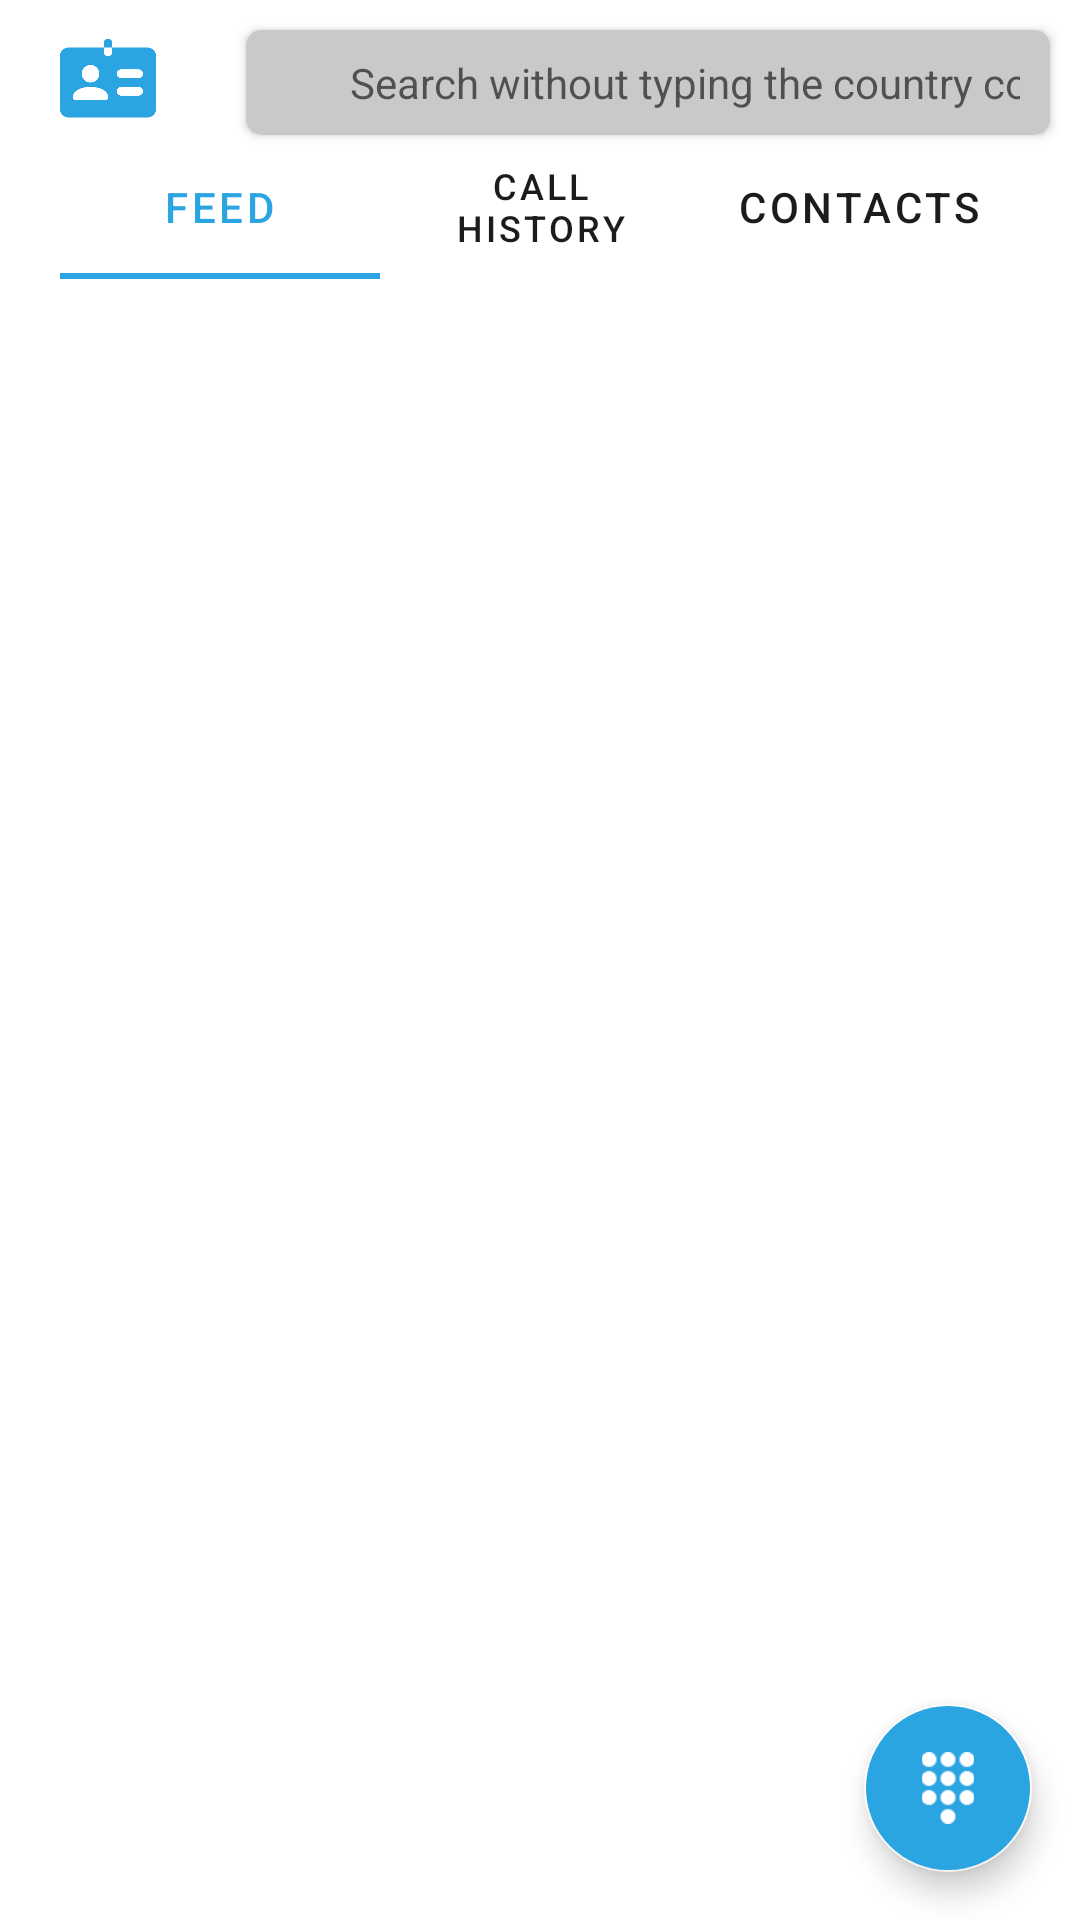

Icons on this 1080*1920 Android screen, each with its box as (x1, y1, x2, y2):
numbers: (866, 1706, 1030, 1870)
profile: (60, 39, 156, 118)
